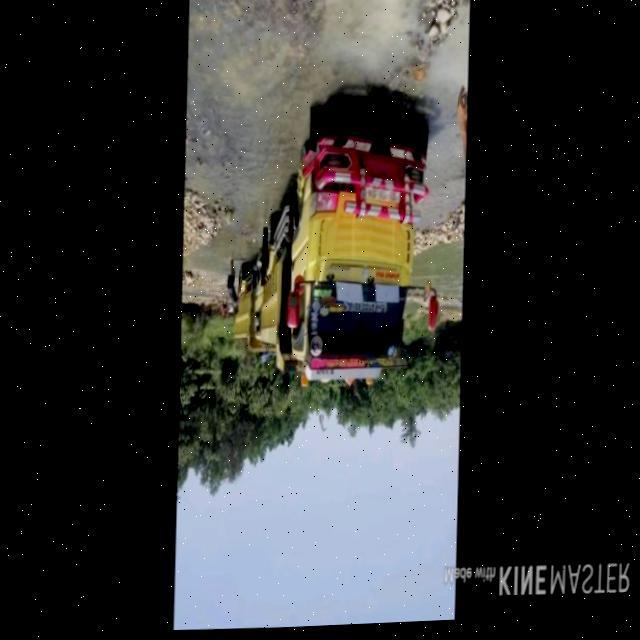truck: (232, 102, 446, 393)
